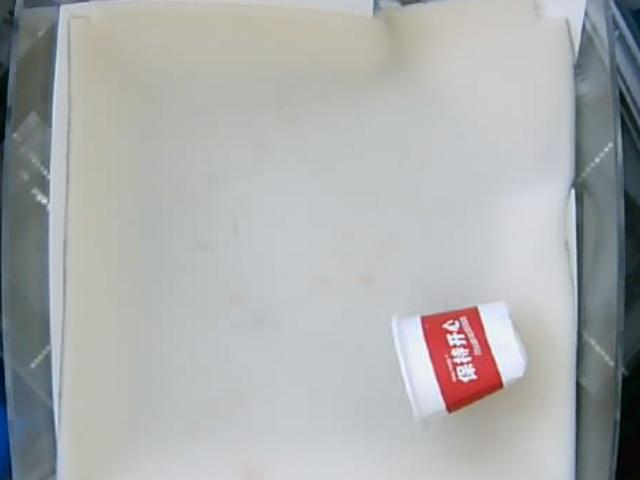Cup: (393, 304, 525, 421)
